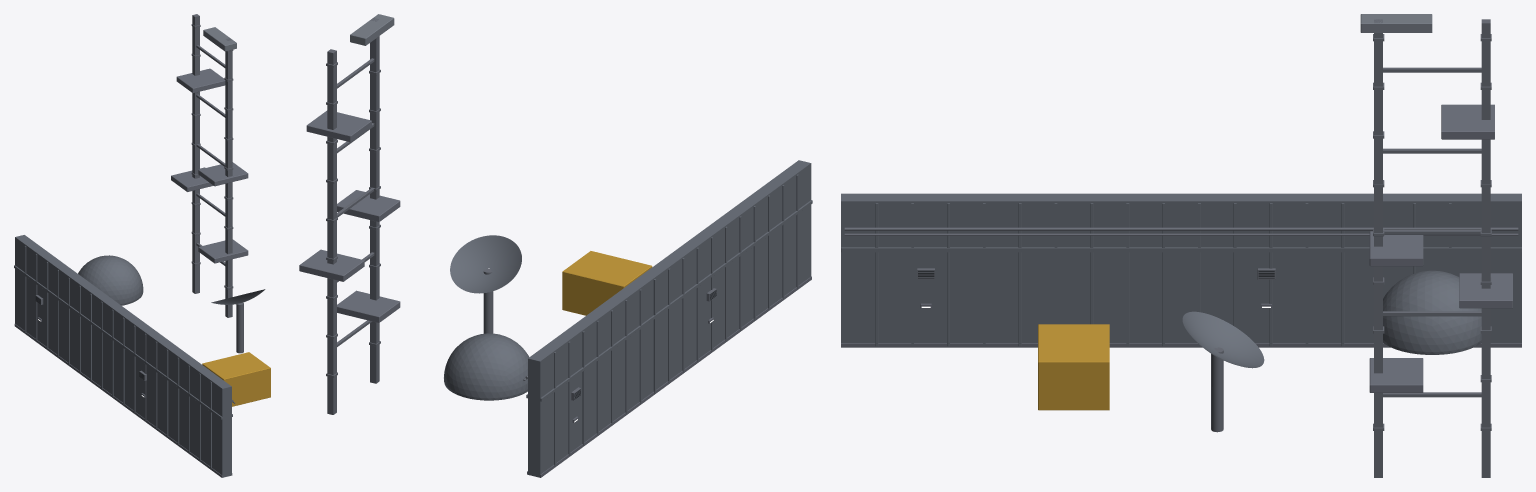
3 renders of one model, left to right at view 1: azimuth 30°, elevation 25°; view 2: azimuth 150°, elevation 25°; view 3: azimuth 270°, elevation 25°, orthographic. The views are drawn at different scales.
Visible parts, largest first — view 1: pm1_m1; view 2: pm1_m1; view 3: pm1_m1.
Part boxes in pixels (x1=…): pm1_m1: x1=14, y1=14, x2=270, y2=477; pm1_m1: x1=299, y1=14, x2=812, y2=477; pm1_m1: x1=841, y1=14, x2=1521, y2=477.
Bounding box in the file's own units: 20.11 × 28 × 38.
